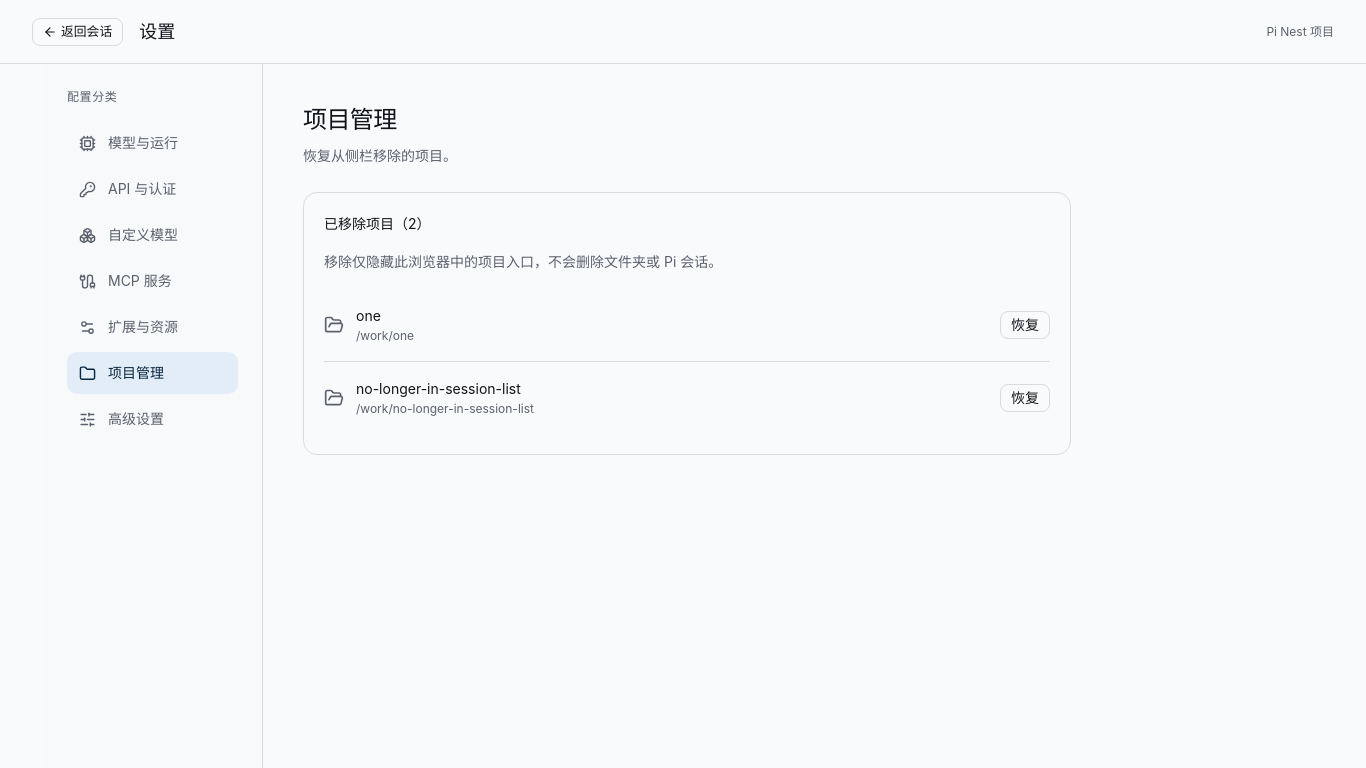
it: restores removed projects without loading Pi configuration or requiring session metadata
Click the button with aria-label "恢复 one" at coordinates (1025, 325), box [1000,311,1050,339]
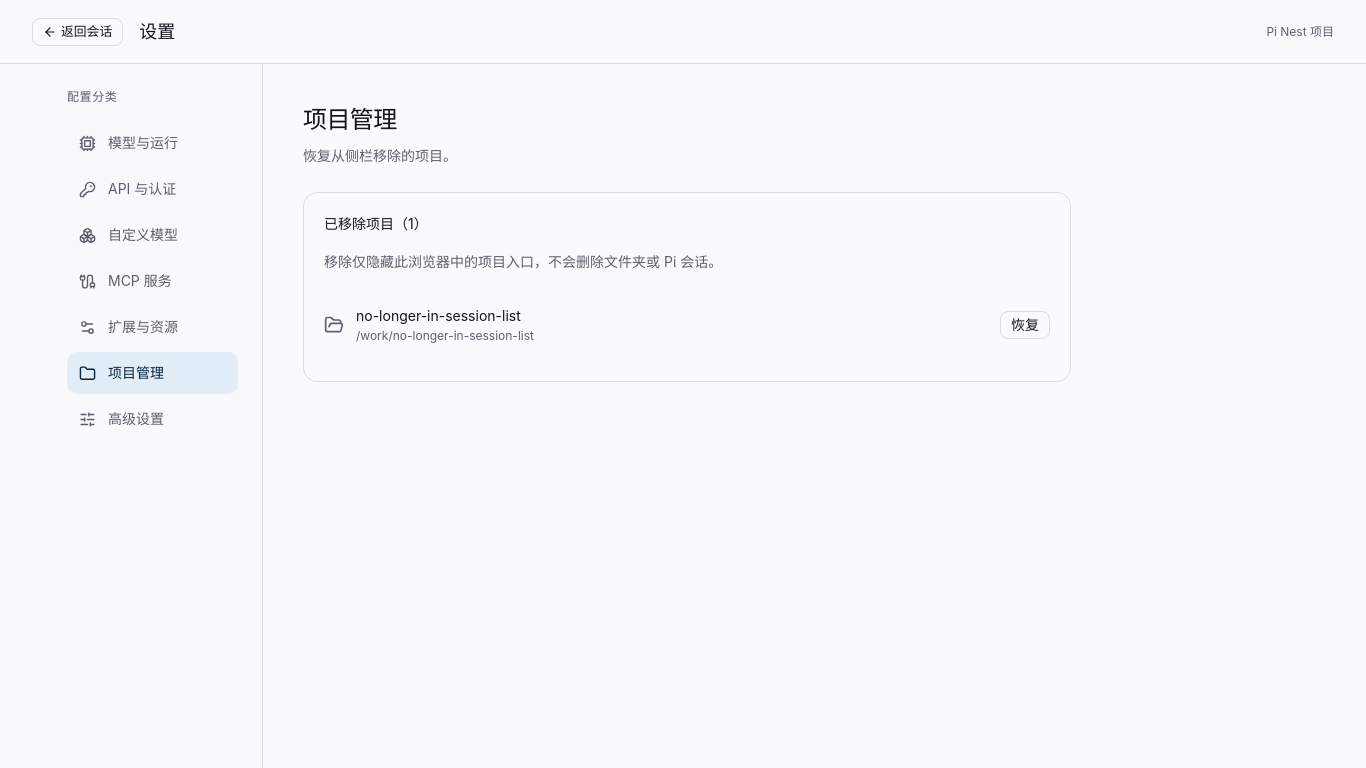
Expected: the text "已移除项目（1）" is shown, [324,215,428,232]
Click the button with aria-label "恢复 no-longer-in-session-list" at coordinates (1025, 325), box [1000,311,1050,339]
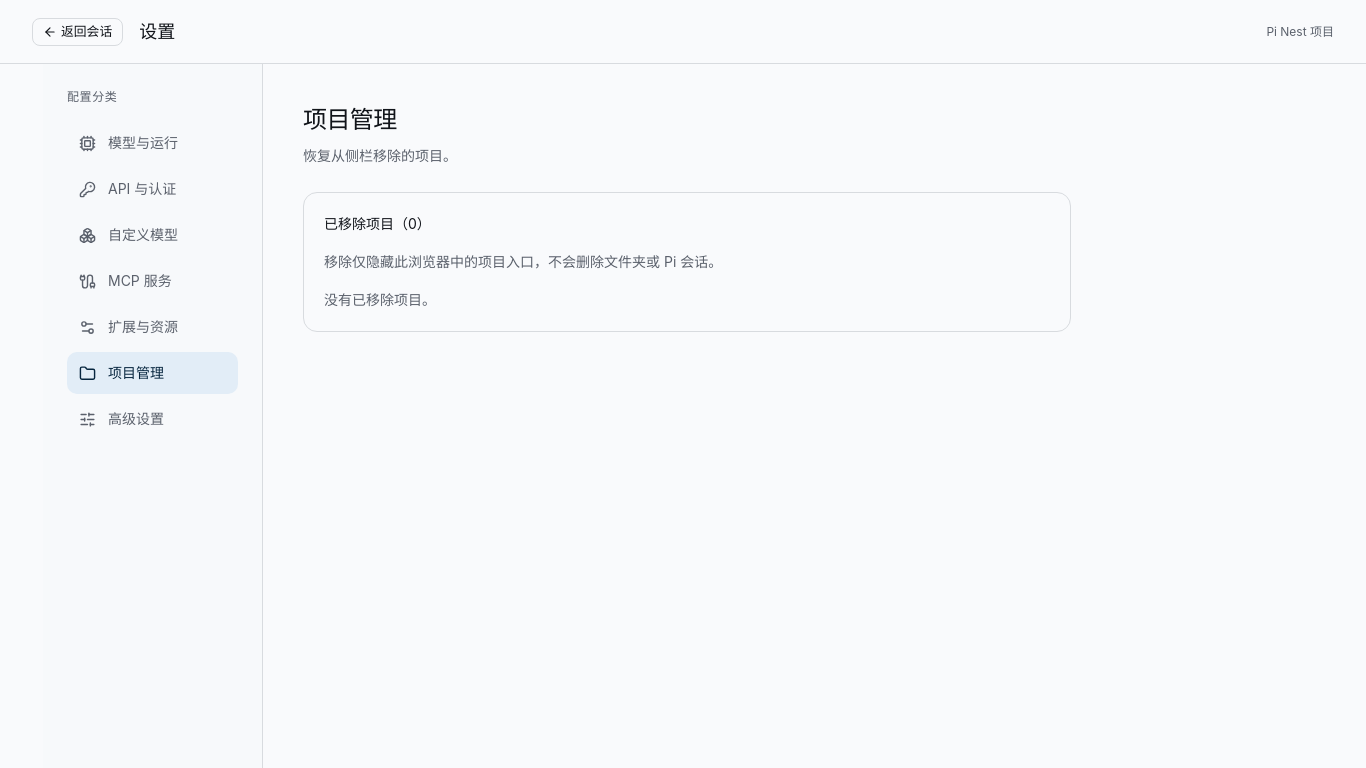
Expected: the text "没有已移除项目" is shown, [324,291,436,308]
